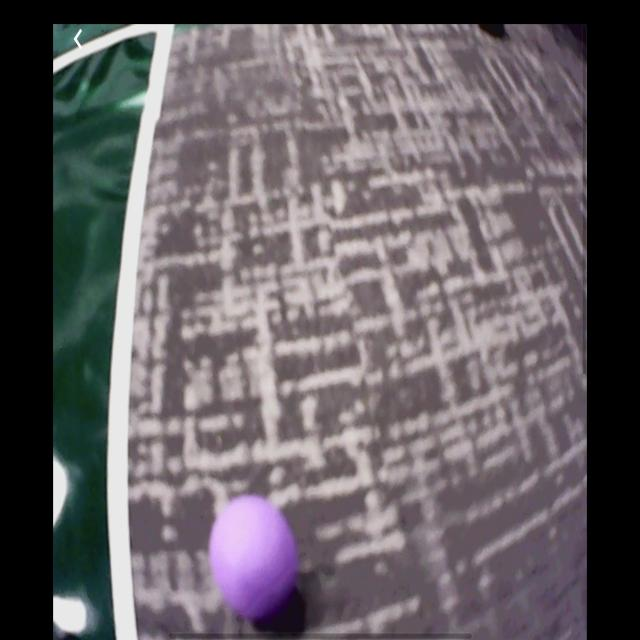ball: (207, 498, 299, 620)
